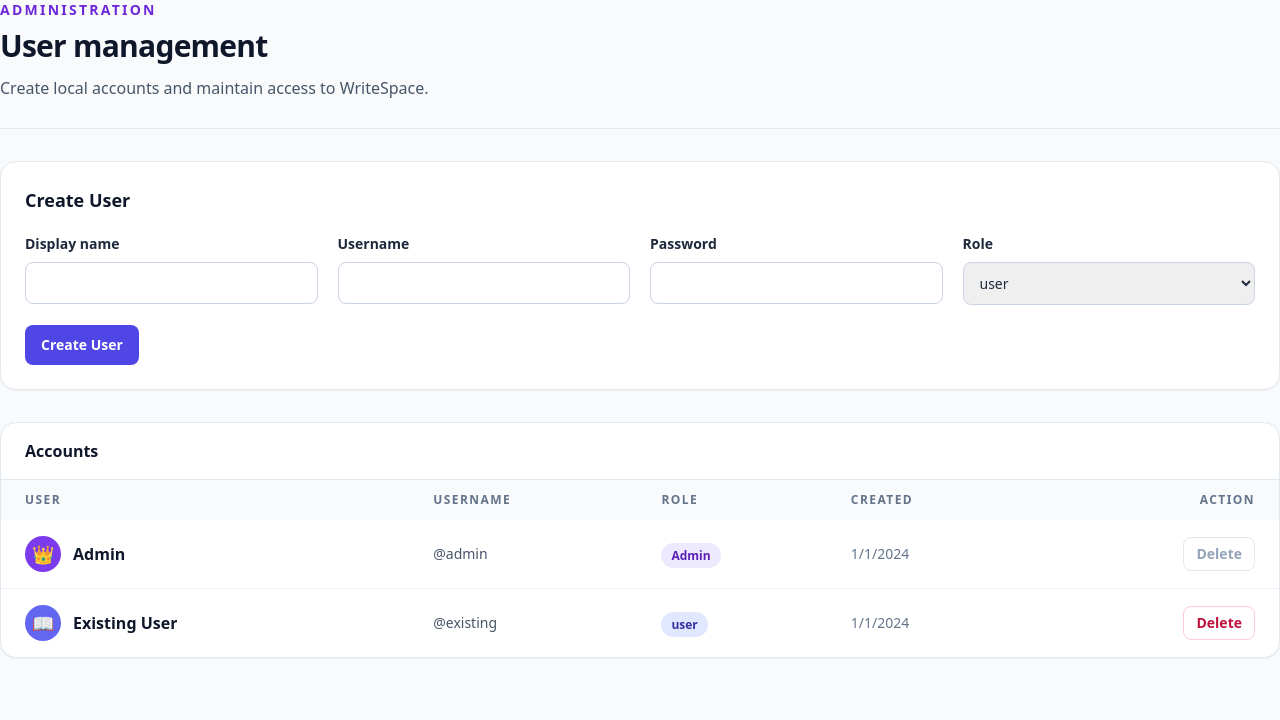
Scenario: UserManagement › shows an error and keeps the account list unchanged when creating a user cannot be saved
The width and height of the screenshot is (1280, 720).
Type "New User" into the field labelled "Display name" at (171, 283), box [25, 262, 318, 304]
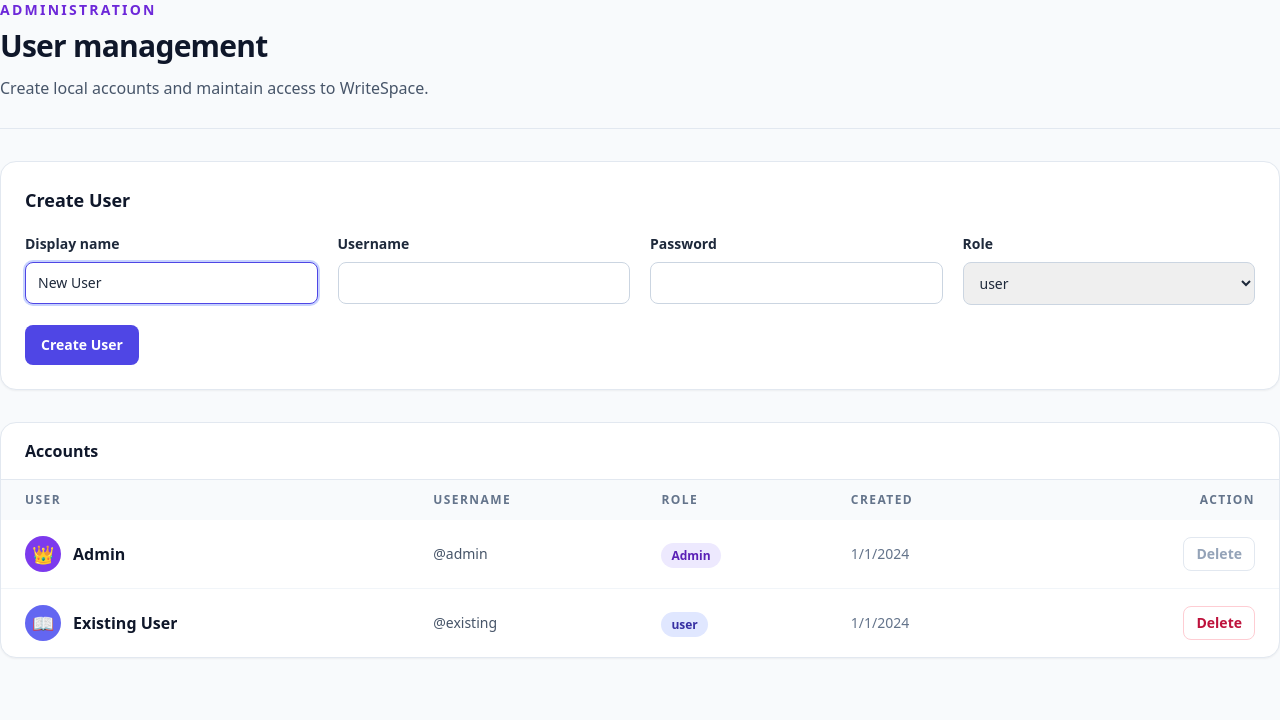
Type "newuser" into the field labelled "Username" at (484, 283), box [338, 262, 630, 304]
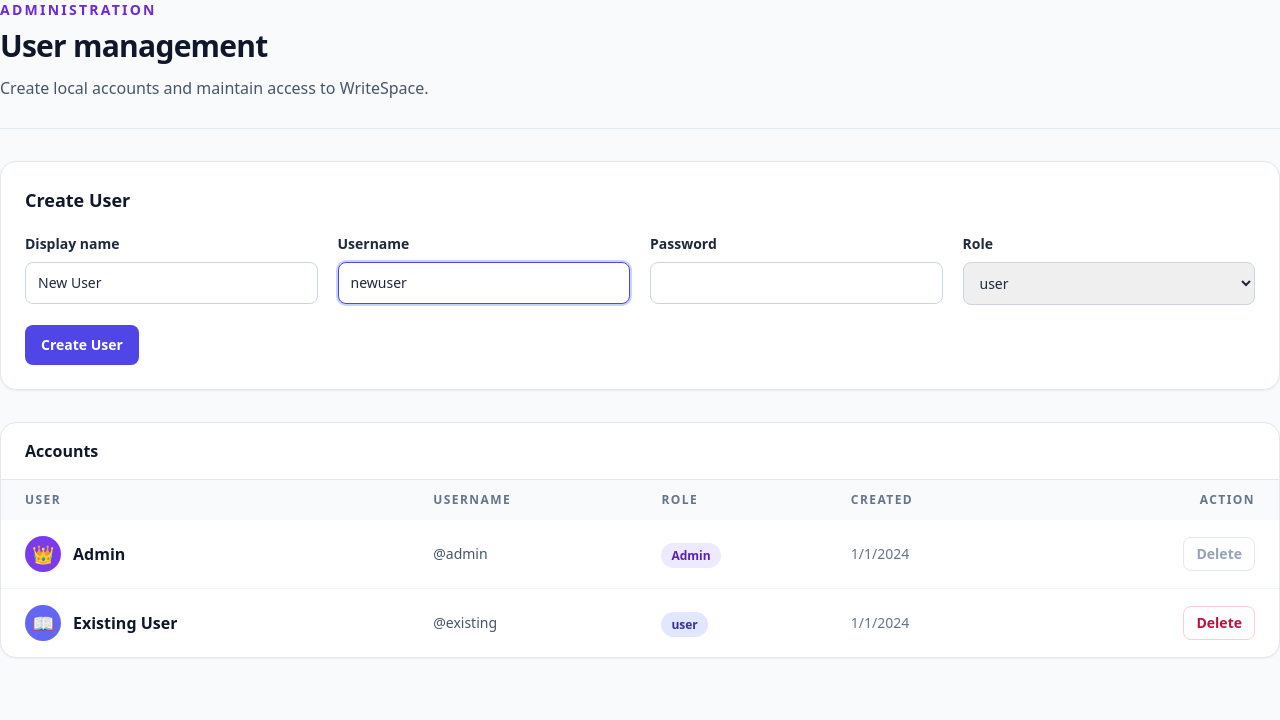
Type "secret" into the password field labelled "Password" at (796, 283), box [650, 262, 942, 304]
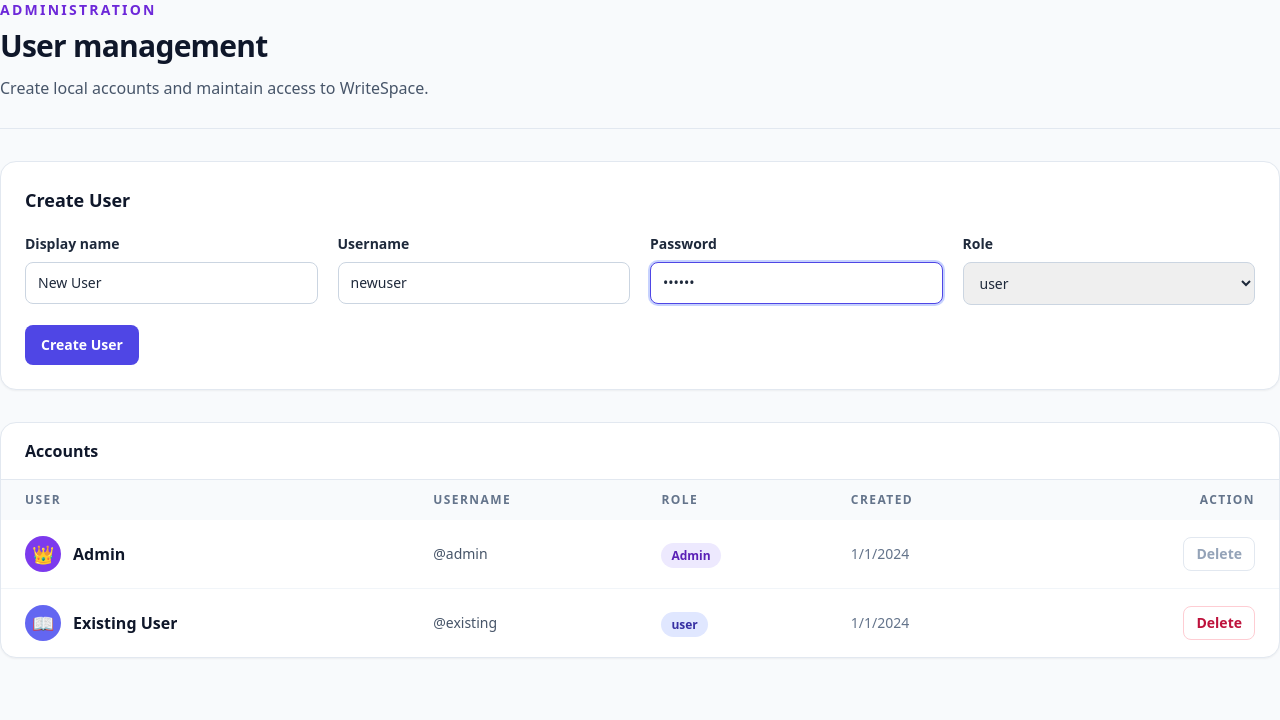
Click the button "Create User" at (82, 345), box [25, 325, 139, 365]
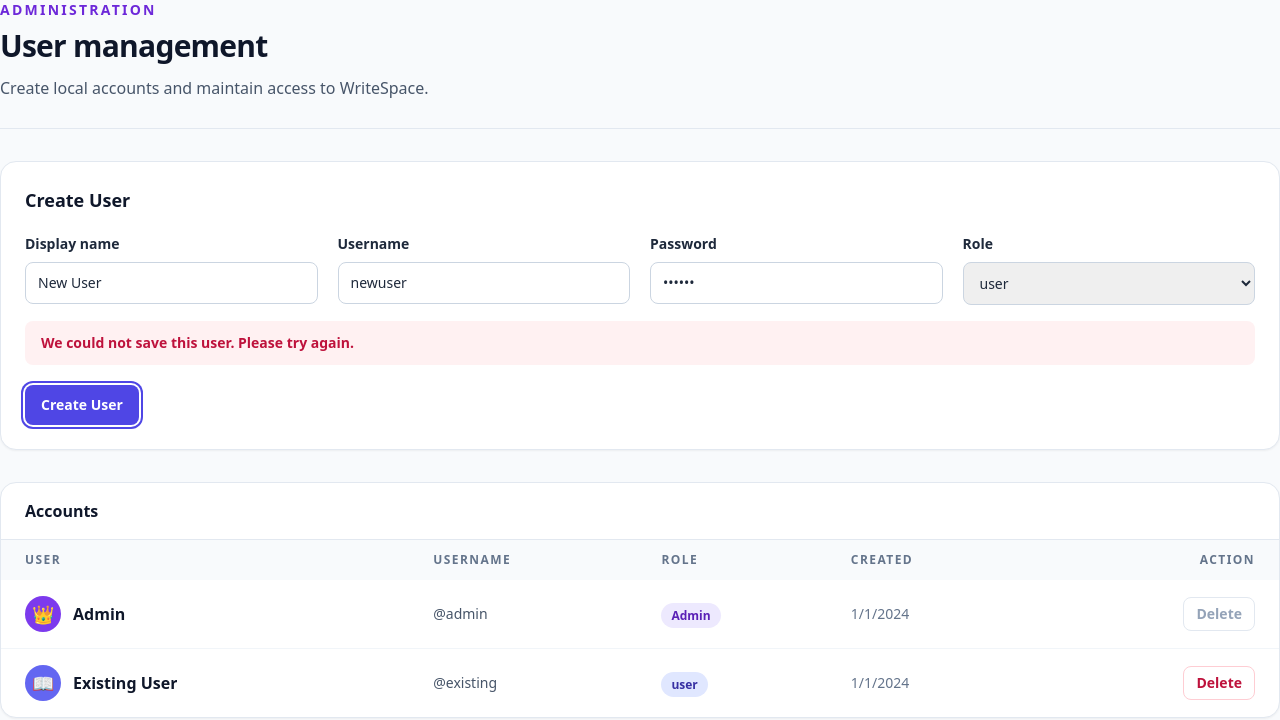
Expected: the text "Existing User" is shown, [73, 671, 177, 695]
Expected: the message reads "We could not save this user. Please try again.", [41, 333, 354, 352]
